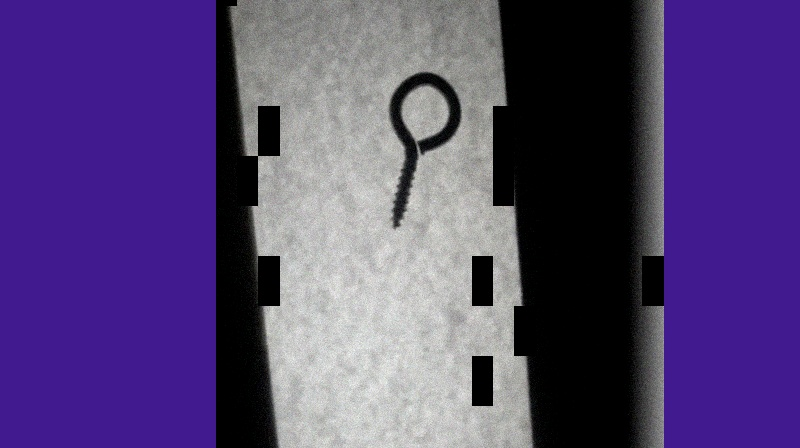O001: (387, 68, 463, 232)
